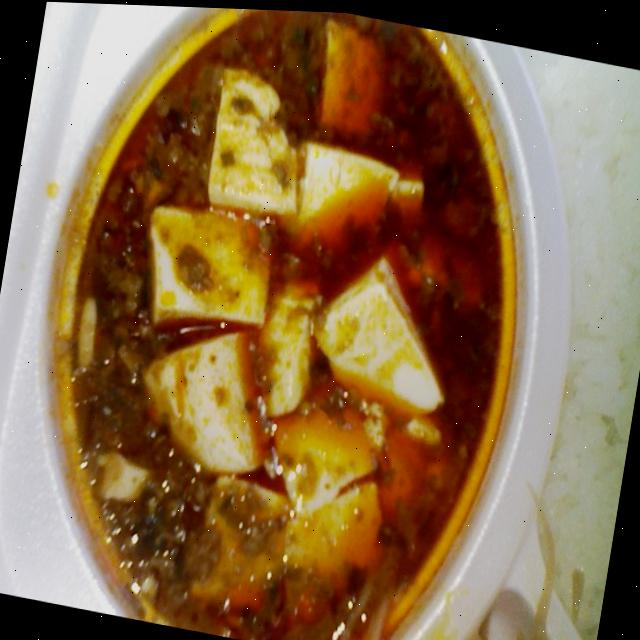豆腐料理: (0, 0, 623, 640)
